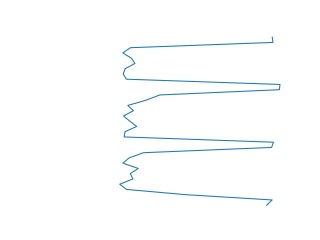majorRiverChannelBar: (119, 38, 282, 206)
